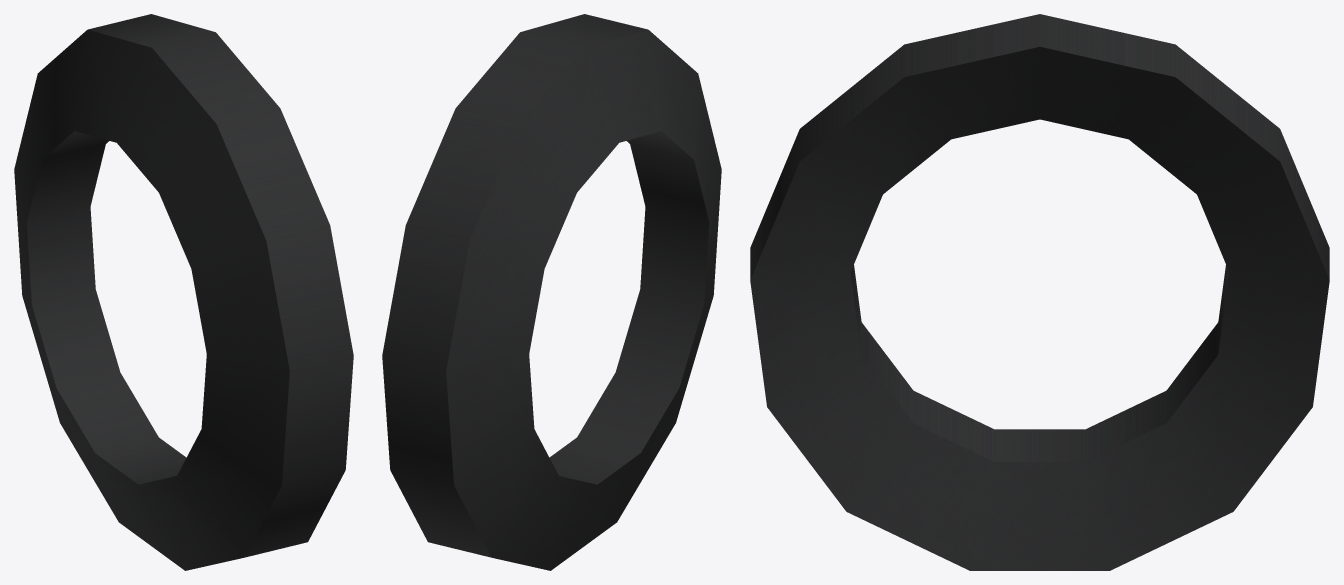
Rendered from Recessed_Washer_OOCompensator.dae.
3 views of the same model, side by side, from view 1: azimuth 30°, elevation 25°; view 2: azimuth 150°, elevation 25°; view 3: azimuth 270°, elevation 25° (orthographic). The views are drawn at different scales.
Parts seen in each view (by area): view 1: Recessed_Washer_OOCompensator; view 2: Recessed_Washer_OOCompensator; view 3: Recessed_Washer_OOCompensator.
Part boxes in pixels (<box>): Recessed_Washer_OOCompensator: <box>14,14,353,570</box>; Recessed_Washer_OOCompensator: <box>382,14,721,570</box>; Recessed_Washer_OOCompensator: <box>750,14,1329,570</box>.
Size of the model in its own units: 0.00399 by 0.0192 by 0.0192.
Materials: 1 (1 with a texture image).
